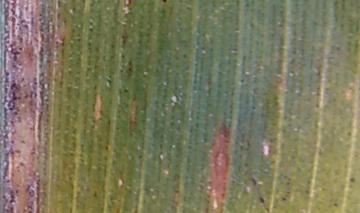tarspot: (8, 42, 24, 62), (10, 81, 21, 101), (257, 193, 265, 206), (127, 59, 133, 73), (263, 204, 271, 213), (121, 87, 130, 95), (123, 1, 133, 8), (120, 34, 126, 45), (249, 175, 255, 185), (92, 189, 98, 198), (331, 202, 338, 209), (18, 160, 25, 167), (348, 176, 356, 182), (314, 101, 320, 109), (181, 51, 187, 59), (104, 144, 110, 152), (159, 1, 168, 6), (280, 195, 286, 202), (20, 138, 26, 145), (250, 104, 256, 110), (346, 130, 352, 136), (284, 190, 290, 195), (239, 77, 244, 83)
